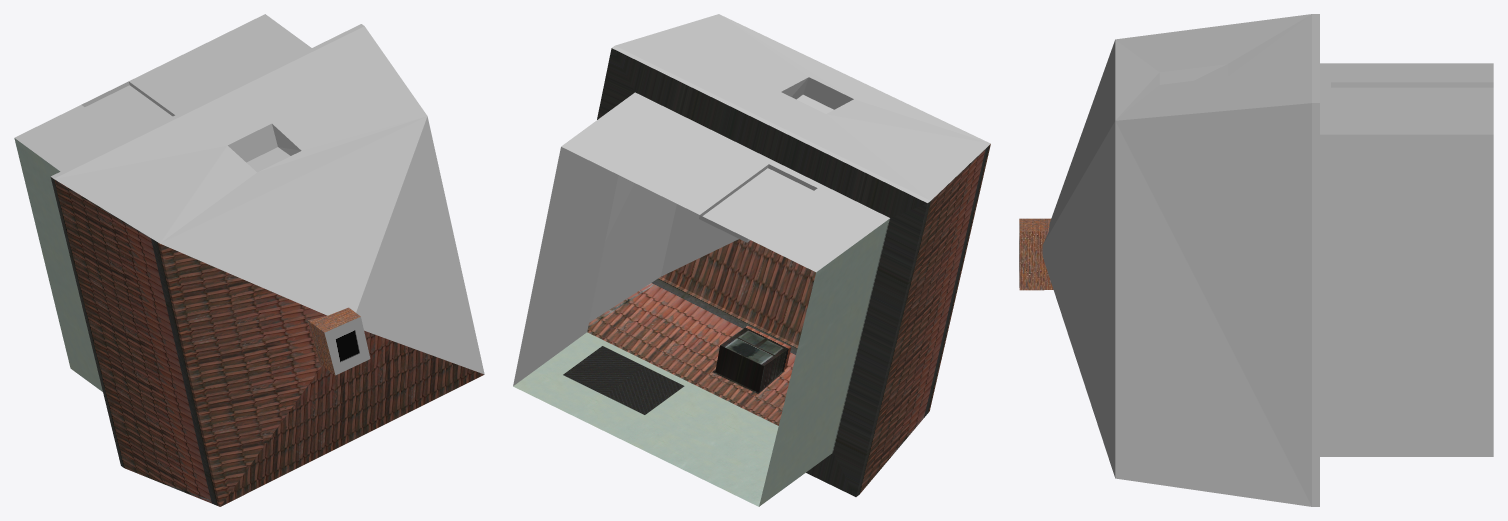
File: Falgi_tee_4_2.obj
3 renders of one model, left to right at view 1: azimuth 30°, elevation 25°; view 2: azimuth 150°, elevation 25°; view 3: azimuth 270°, elevation 25°, orthographic. The views are drawn at different scales.
Visible parts, largest first — view 1: Falgi_tee_4_2; view 2: Falgi_tee_4_2; view 3: Falgi_tee_4_2.
Part boxes in pixels (<box>): Falgi_tee_4_2: <box>14,14,484,506</box>; Falgi_tee_4_2: <box>513,14,990,506</box>; Falgi_tee_4_2: <box>1019,14,1493,506</box>.
Bounding box in the file's own units: 6.88 × 6.79 × 6.4.
